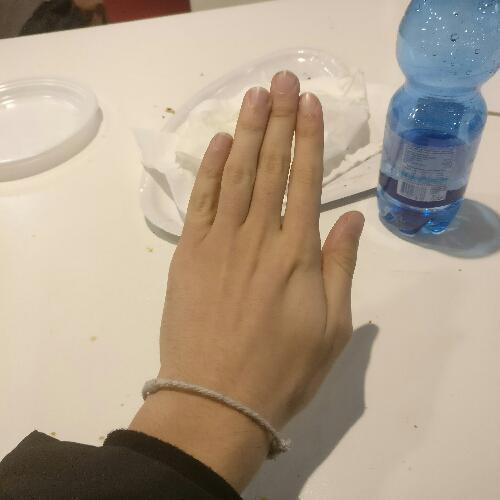paper: (144, 66, 368, 440)
